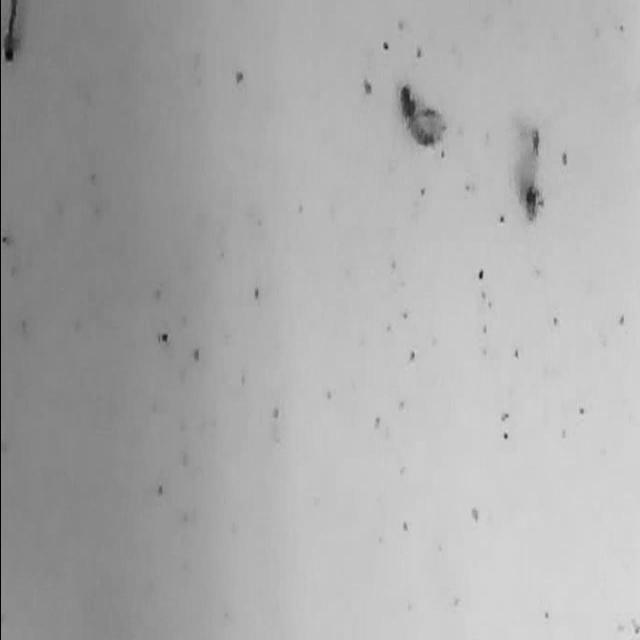larvas: (398, 85, 446, 147), (520, 125, 542, 218), (3, 0, 20, 63)
